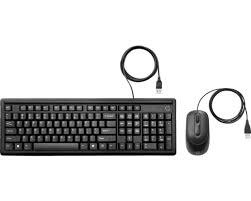keyboard: (0, 96, 176, 154)
mouse: (183, 104, 211, 156)
